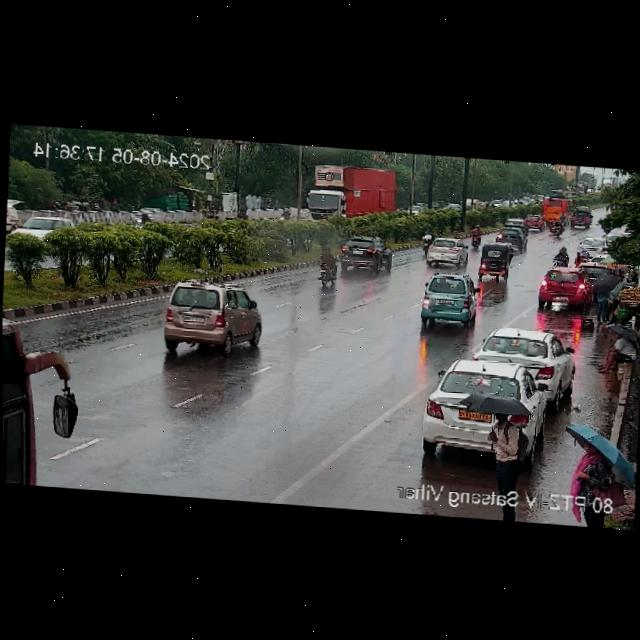bus: (2, 301, 85, 489), (534, 191, 570, 230)
car: (408, 353, 546, 470), (152, 273, 276, 371), (460, 324, 580, 416), (405, 267, 488, 342), (339, 221, 397, 288), (530, 264, 595, 316), (8, 203, 86, 240), (424, 231, 472, 272), (473, 237, 517, 280), (491, 221, 527, 254), (518, 209, 551, 234), (496, 211, 529, 235), (569, 206, 596, 235), (5, 192, 24, 233), (577, 236, 607, 260), (601, 231, 626, 252), (407, 201, 421, 219), (572, 203, 591, 214)
motorcycle: (303, 241, 345, 299), (401, 221, 442, 257), (122, 205, 165, 230), (544, 241, 570, 270), (462, 223, 484, 252), (270, 201, 295, 225), (549, 217, 565, 240)
person: (457, 389, 536, 491), (551, 412, 640, 500), (590, 321, 640, 383), (588, 271, 618, 329), (605, 270, 632, 318), (566, 247, 586, 268)
truck: (298, 155, 403, 227), (458, 195, 490, 218), (568, 180, 590, 199)
